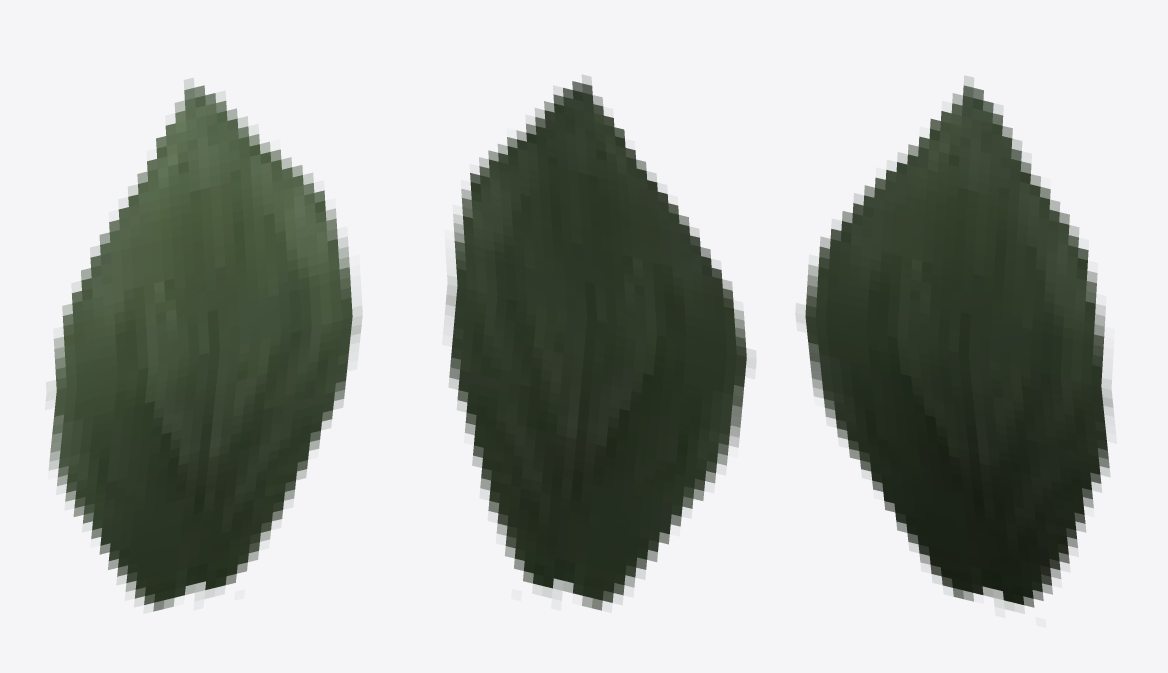
3 views of the same model, side by side, from view 1: azimuth 30°, elevation 25°; view 2: azimuth 150°, elevation 25°; view 3: azimuth 330°, elevation 25° (orthographic). The views are drawn at different scales.
Parts seen in each view (by area): view 1: model_Object16; view 2: model_Object16; view 3: model_Object16.
Boxes of the visible parts, x1=… form: model_Object16: x1=49, y1=78, x2=362, y2=611; model_Object16: x1=445, y1=75, x2=746, y2=610; model_Object16: x1=805, y1=76, x2=1113, y2=610.
Bounding box in the file's own units: 0.2467 × 0.4 × 0.0346.
1 material, 1 textured.
